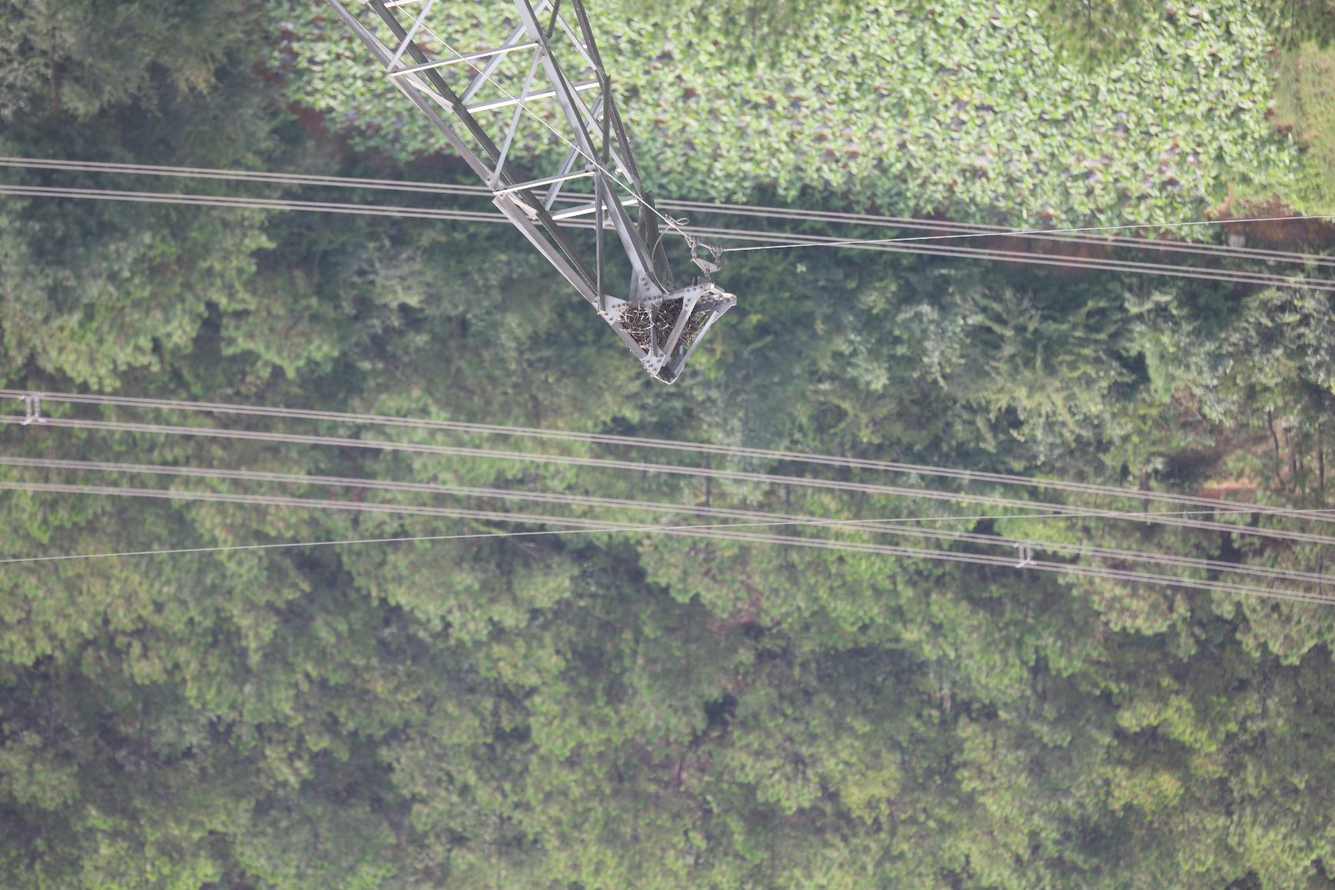nest: (616, 296, 704, 350)
